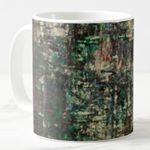cups: (7, 8, 139, 144)
